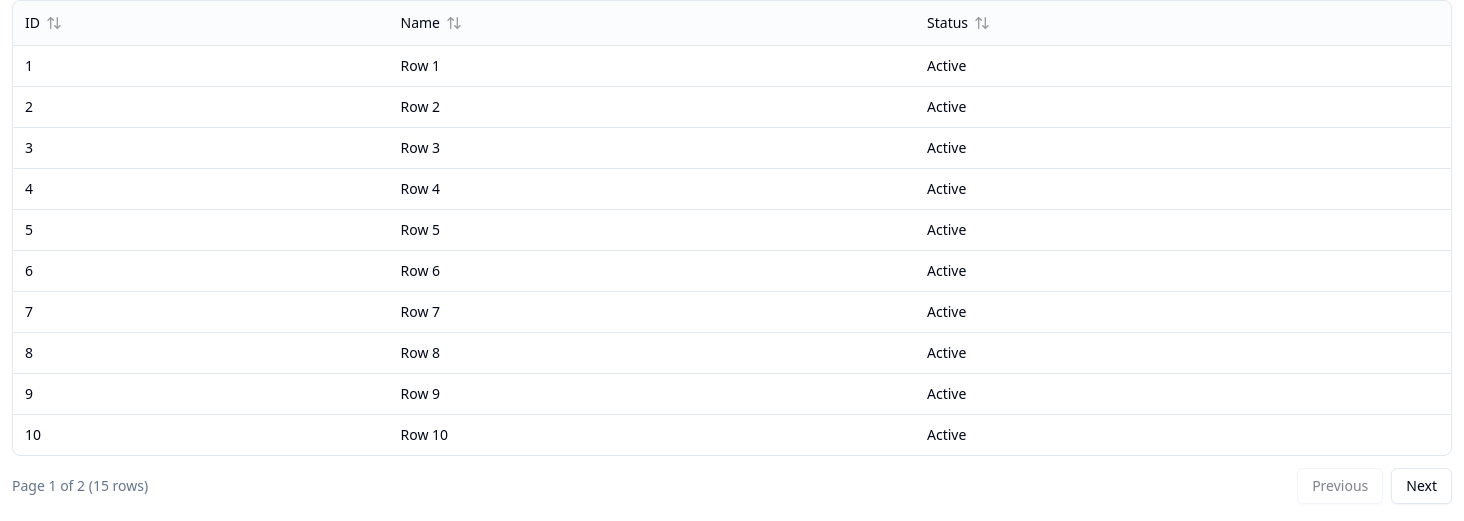
Test: DataTable › navigates to next page
What coordinates should you click on to do the following:
click the button "Next"
I would click on:
 (1422, 486)
Its box is [1391,468,1452,504].
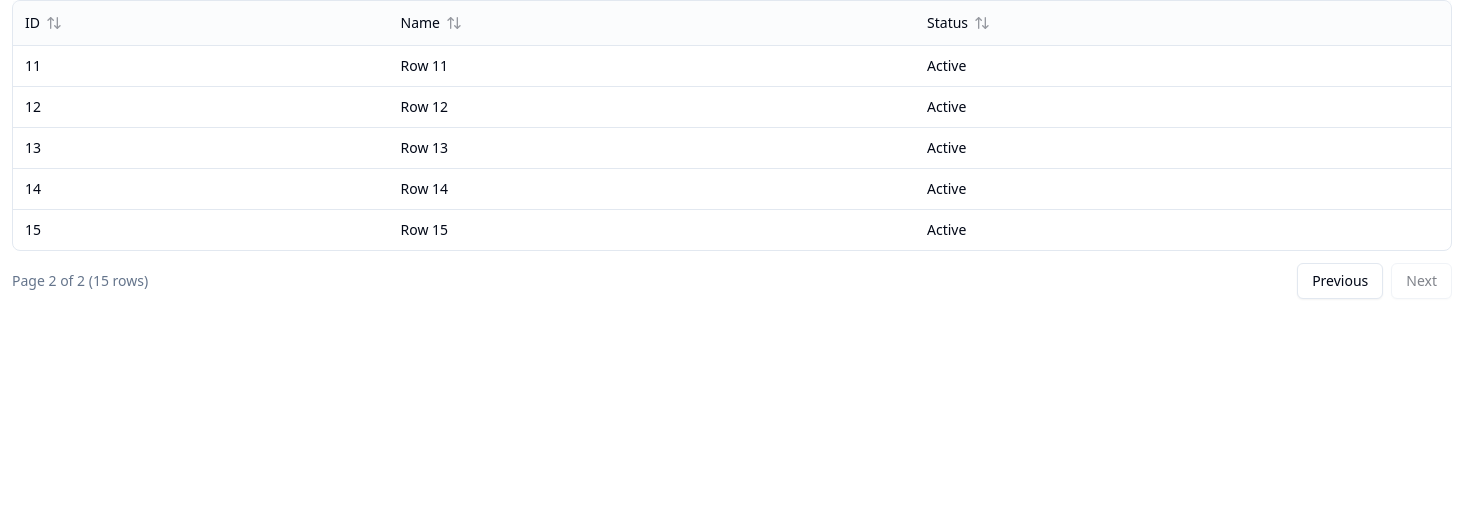
Check: the text "Page 2 of 2 (15 rows)" is shown, box [12,270,148,290]
Check: the text "Row 11" is shown, box [388,45,915,86]
